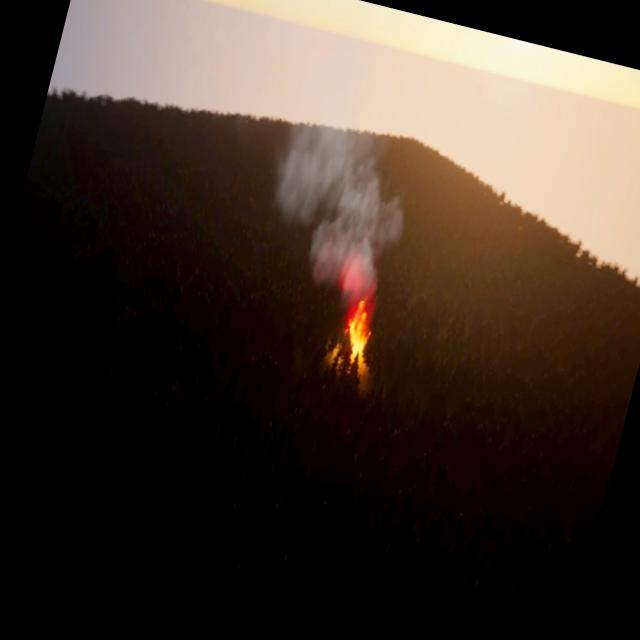fire: (338, 306, 379, 362)
smoke: (252, 101, 426, 304)
